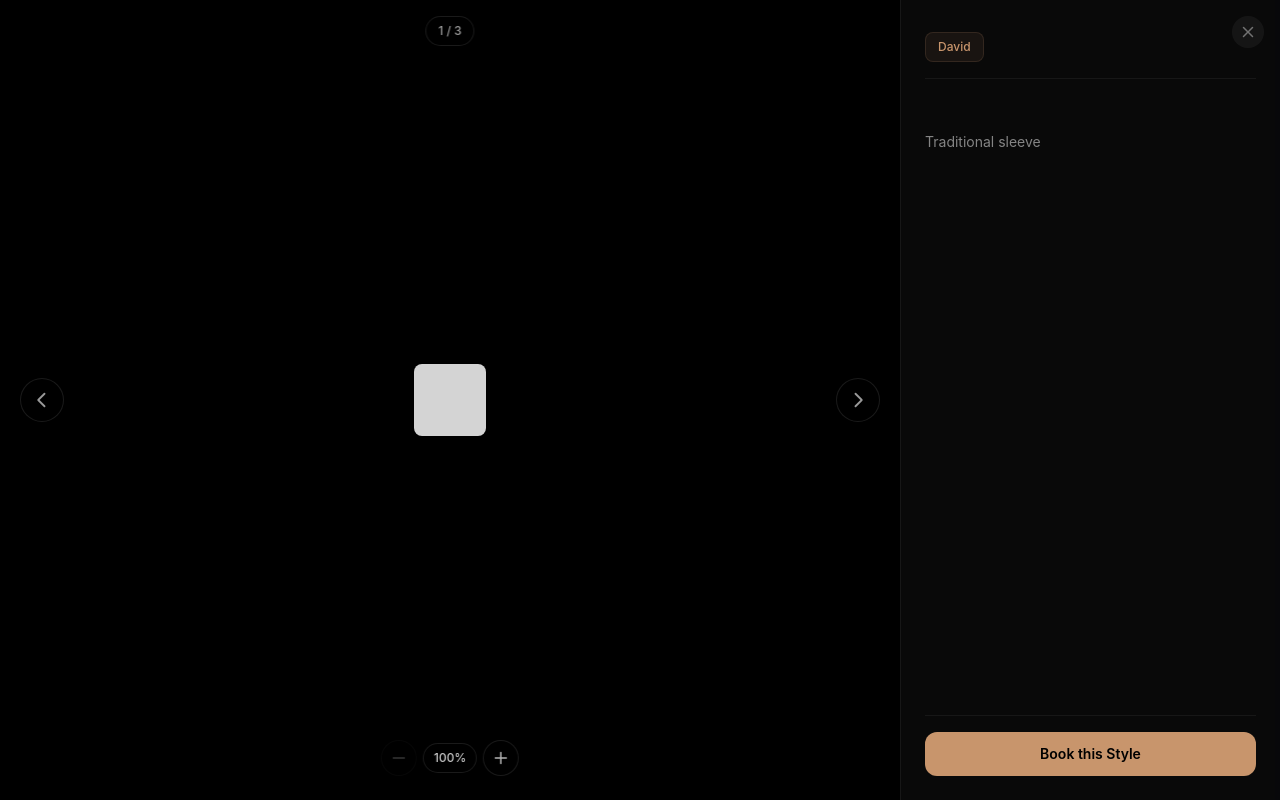
PhotoLightbox Component › Zoom Controls › should zoom out when clicking zoom out
The width and height of the screenshot is (1280, 800).
# Zoom in first
Click the button named "Zoom in" at (501, 758), box [483,740,519,776]
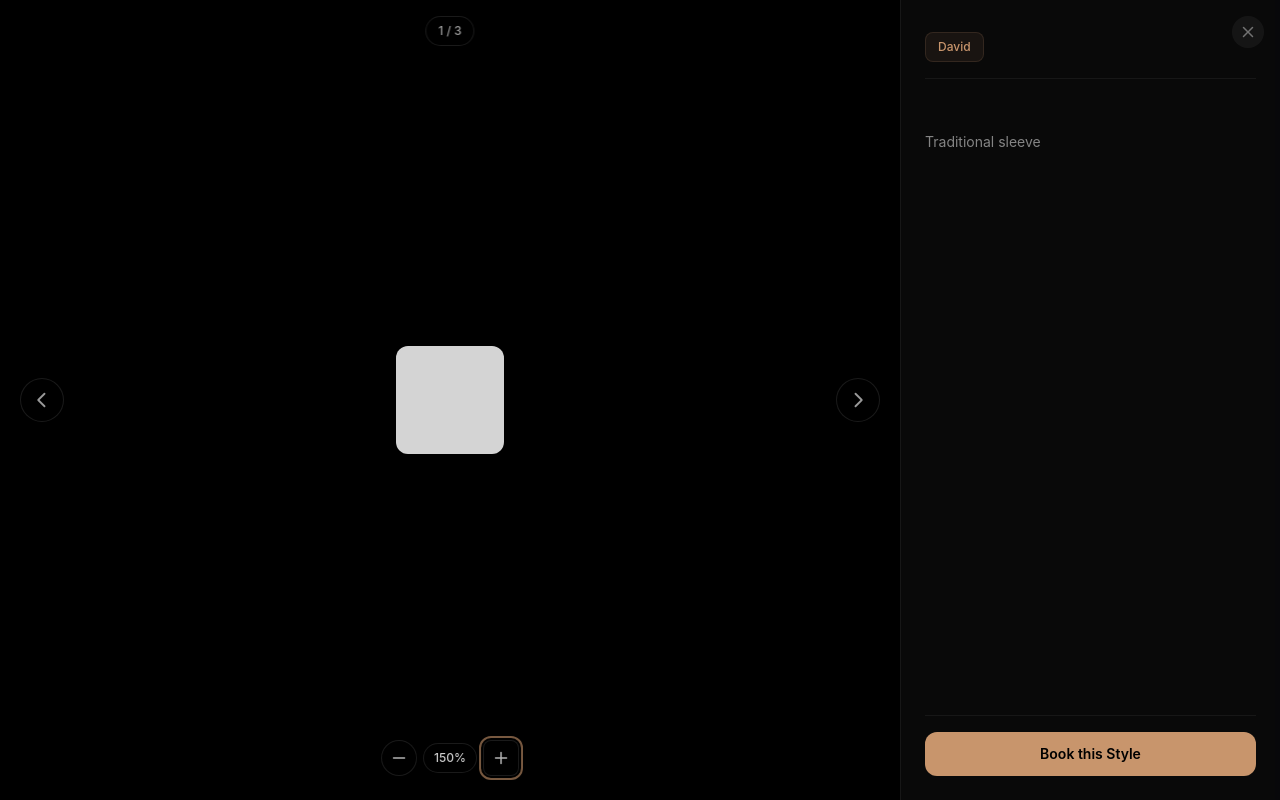
Check: the text "150%" is shown, box [423,743,477,773]
# Then zoom out
Click the button named "Zoom out" at (399, 758), box [381,740,417,776]
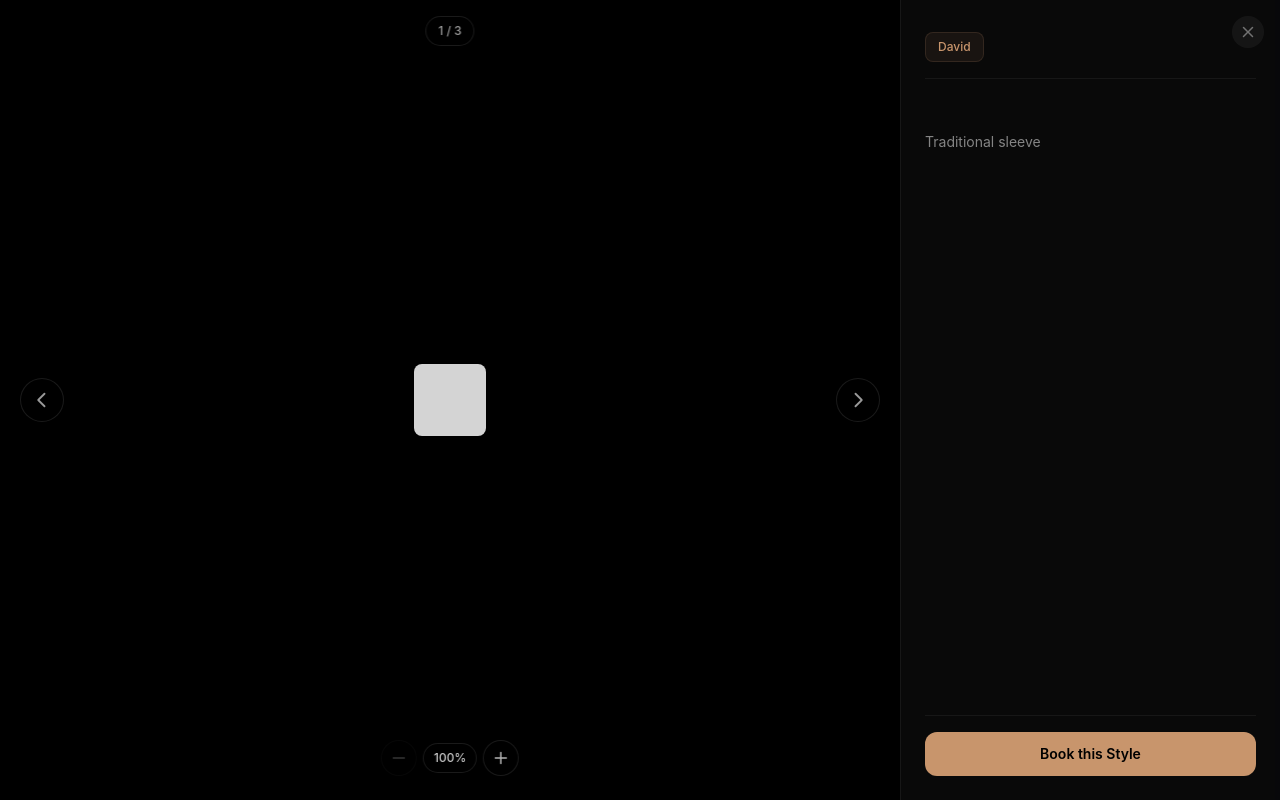
Check: the text "100%" is shown, box [423,743,477,773]
